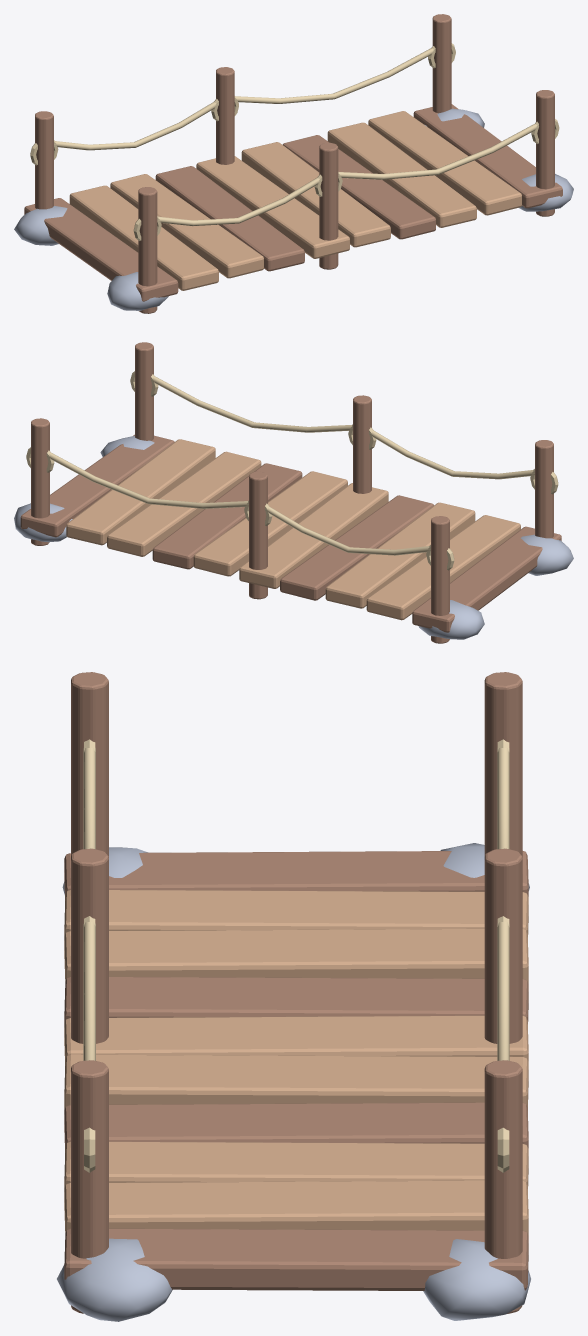
The model's file is northern_log_bridge.glb.
3 renders of one model, top to bottom at view 1: azimuth 30°, elevation 25°; view 2: azimuth 150°, elevation 25°; view 3: azimuth 270°, elevation 25°, orthographic. The views are drawn at different scales.
Visible parts, largest first — view 1: northern_log_bridge.001; view 2: northern_log_bridge.001; view 3: northern_log_bridge.001.
Boxes of the visible parts, x1=… form: northern_log_bridge.001: x1=14, y1=14, x2=573, y2=313; northern_log_bridge.001: x1=14, y1=342, x2=573, y2=643; northern_log_bridge.001: x1=57, y1=672, x2=530, y2=1321.
Size of the model in its own units: 12.9 by 3.24 by 5.74.
